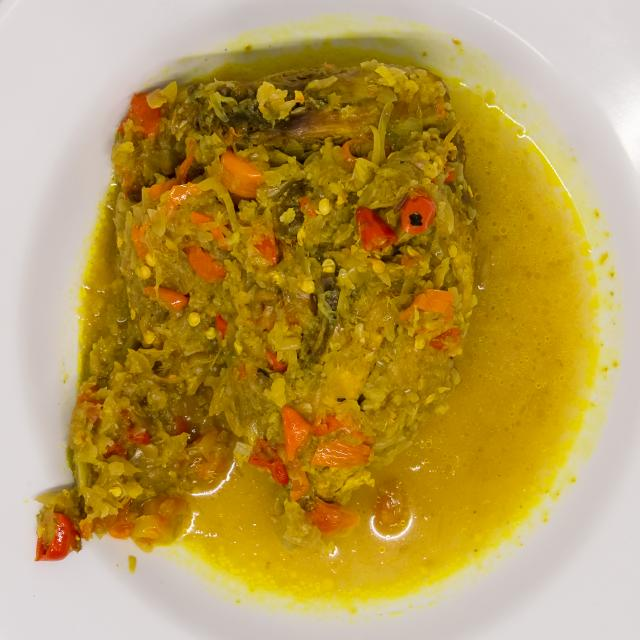Ayam-Betutu: (26, 50, 498, 579)
